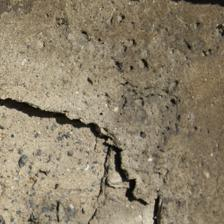Crack: (2, 48, 153, 161)
